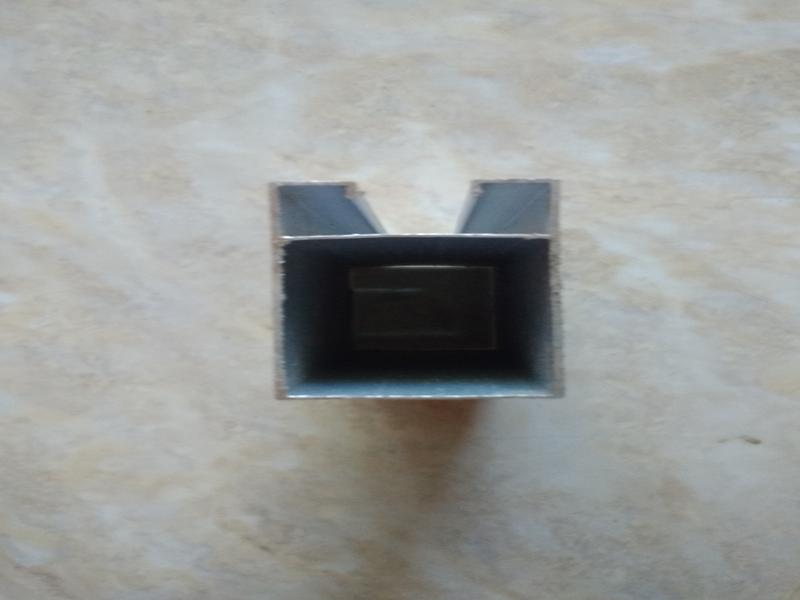Aluminium_1: (257, 173, 584, 409)
